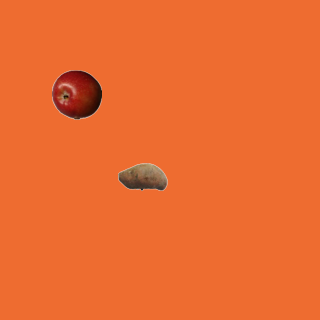Apple Braeburn: (51, 69, 101, 119)
Potato Sweet: (117, 151, 167, 201)
